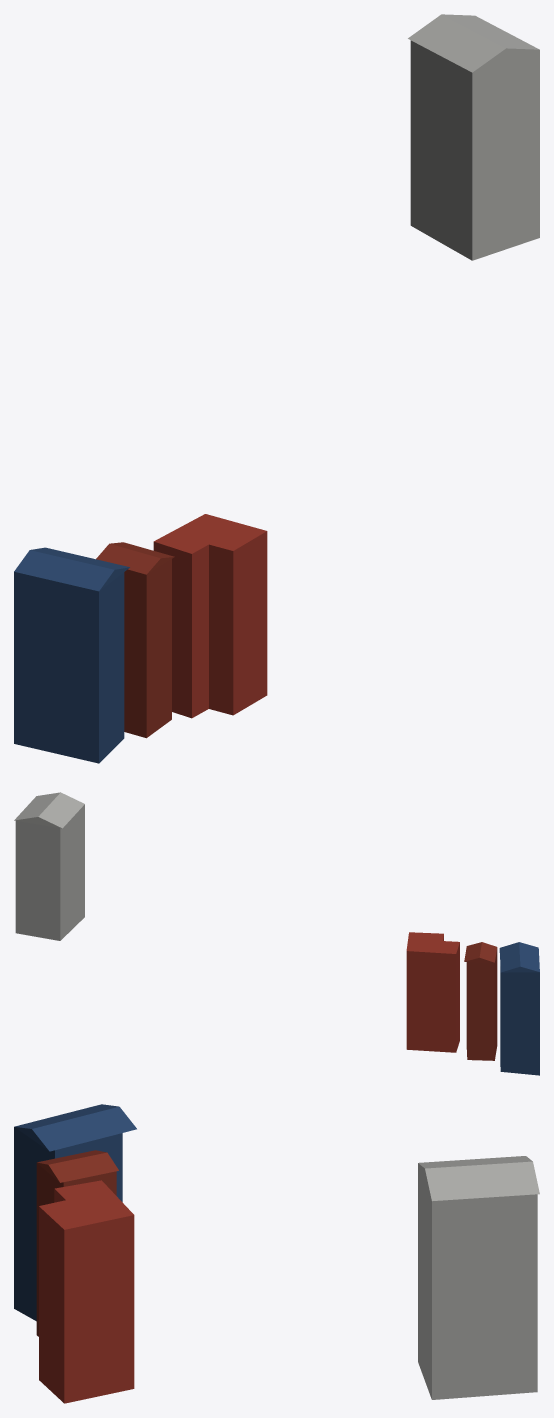
File: near-15-27361-14879.bdb51d93.glb
3 views of the same model, one above another, from view 1: azimuth 30°, elevation 25°; view 2: azimuth 150°, elevation 25°; view 3: azimuth 270°, elevation 25° (orthographic). The views are drawn at different scales.
Bounding box in the file's own units: 76.36 × 45.58 × 48.24.
